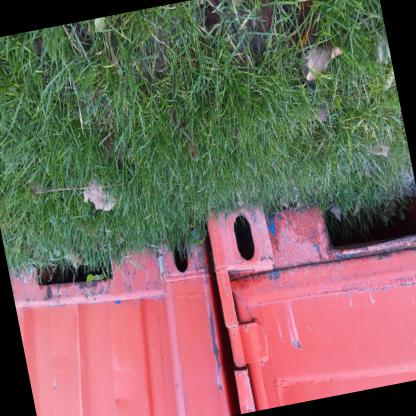CornerCasting: (200, 196, 284, 288), (151, 218, 215, 288)
